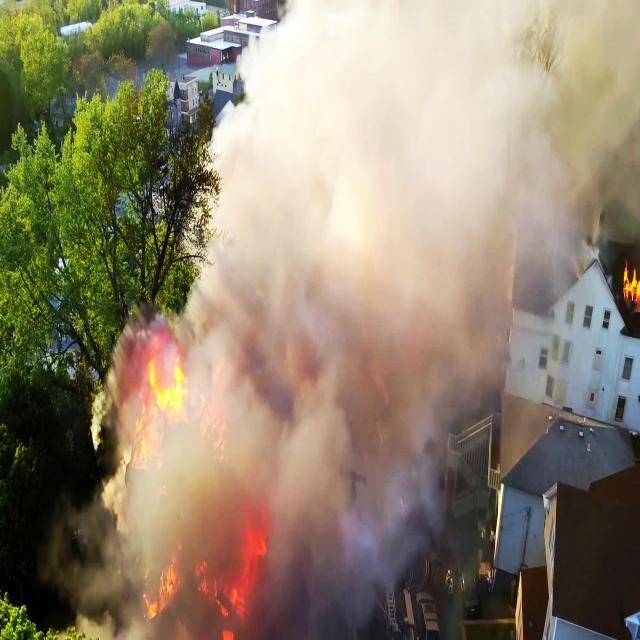Fire: (142, 530, 266, 637), (145, 332, 189, 420), (611, 256, 640, 314)
Smoke: (189, 0, 639, 245), (183, 236, 584, 497), (265, 502, 438, 640), (90, 317, 146, 638), (147, 424, 183, 536), (182, 500, 254, 540)
